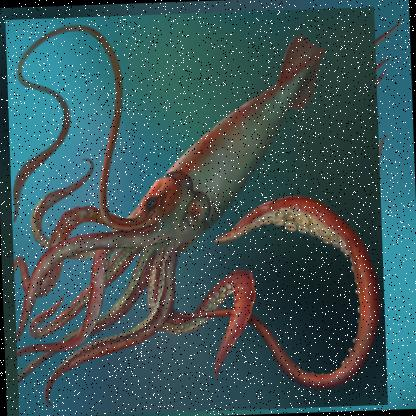colossal_squid: (4, 5, 389, 415)
